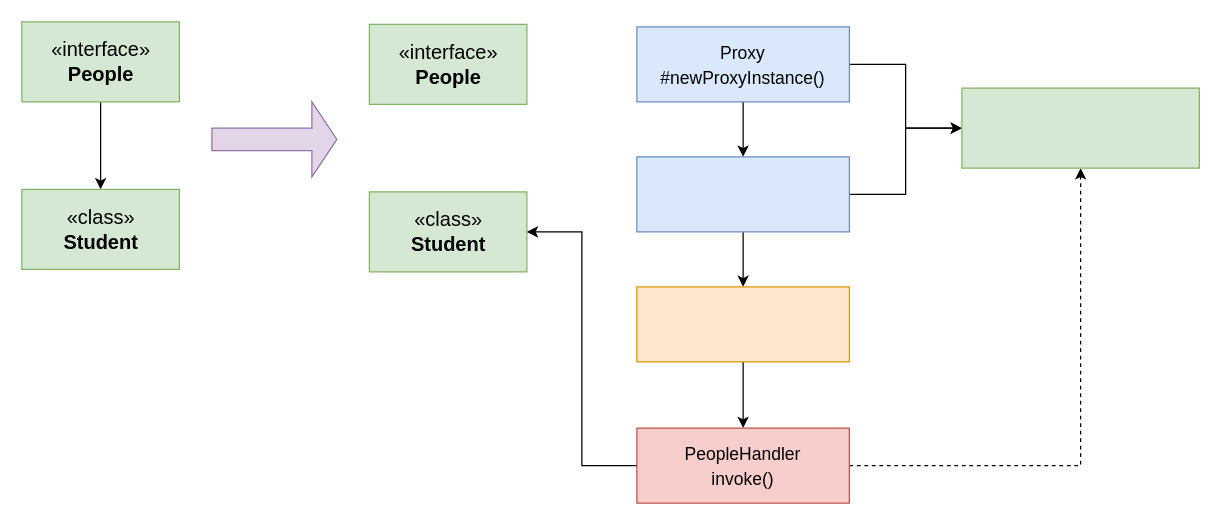
This 1221x525 diagram has some shape labels left out. Each missing label, with the box of its shape:
$ProxyPeople: (636, 286, 849, 362)
ProxyGenerator #generatorProxyClass(): (636, 156, 849, 232)
«interface» InvocationHandler: (961, 87, 1199, 168)
